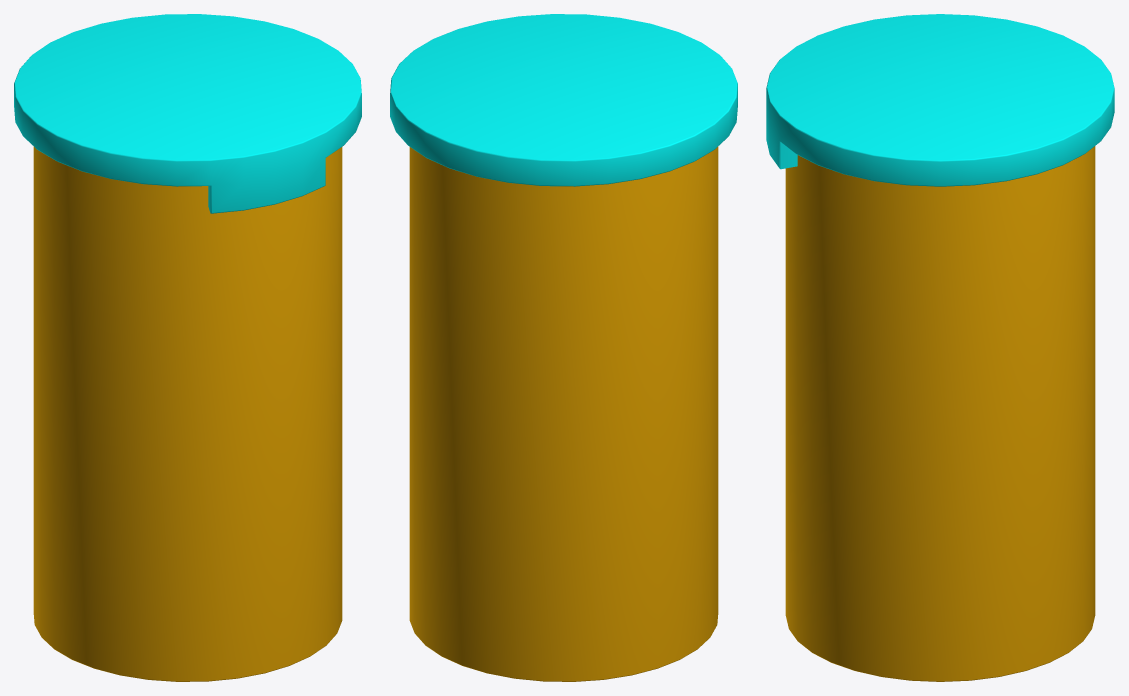
Rendered from Rivet.fbx.
3 views of the same model, side by side, from view 1: azimuth 30°, elevation 25°; view 2: azimuth 150°, elevation 25°; view 3: azimuth 270°, elevation 25° (orthographic).
Visible parts, largest first — view 1: Cylinder; view 2: Cylinder; view 3: Cylinder.
Part boxes in pixels (<box>): Cylinder: <box>14,14,361,681</box>; Cylinder: <box>390,14,737,681</box>; Cylinder: <box>766,14,1114,681</box>.
Size of the model in its own units: 129 by 217 by 129.
